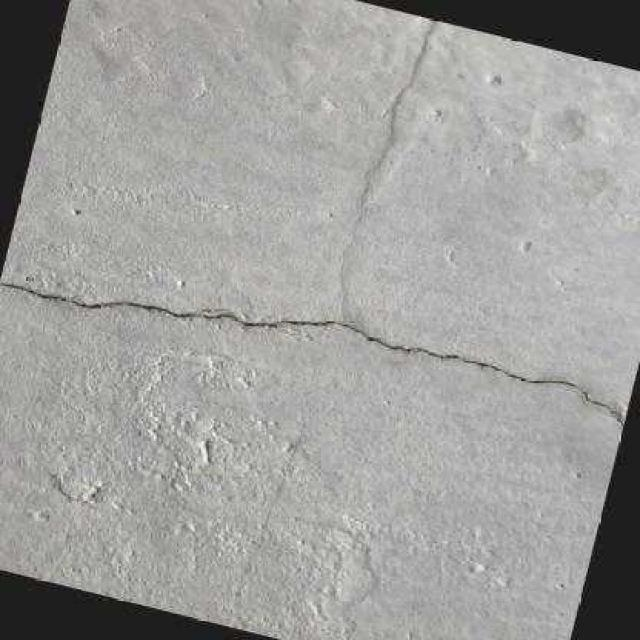D00: (0, 280, 626, 426)
